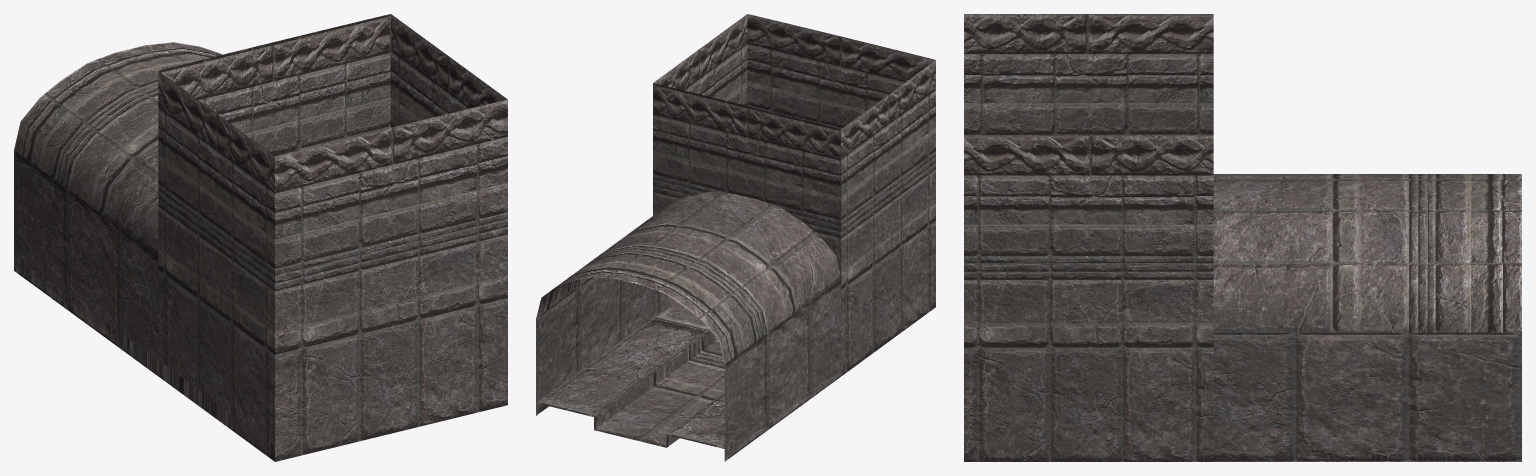
The picture shows the model from 3 angles, left to right: view 1: azimuth 30°, elevation 25°; view 2: azimuth 150°, elevation 25°; view 3: azimuth 270°, elevation 25°; orthographic projection. The views are drawn at different scales.
Visible parts, largest first — view 1: 하수구 출입구, 하수도 입구 바닥; view 2: 하수구 출입구, 하수도 입구 바닥; view 3: 하수구 출입구, 하수도 입구 바닥.
Boxes of the visible parts, x1,y1,x2,y2 form: 하수구 출입구: [14, 14, 507, 461]; 하수도 입구 바닥: [14, 257, 506, 461]; 하수구 출입구: [536, 14, 935, 461]; 하수도 입구 바닥: [536, 299, 935, 460]; 하수구 출입구: [964, 14, 1521, 461]; 하수도 입구 바닥: [964, 445, 1521, 461].
Size of the model in its own units: 139 by 175 by 270.
